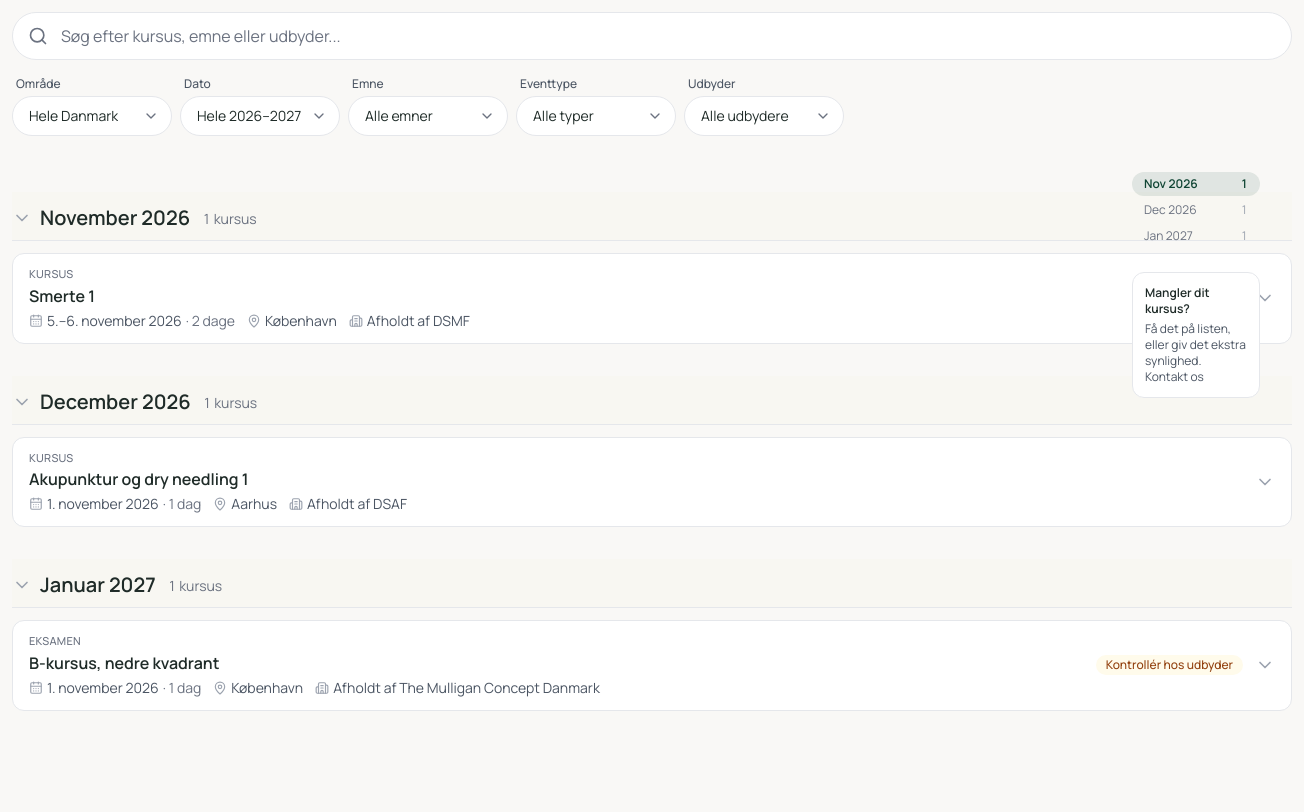
Test: CourseOverview › lists months with counts in the timeline and jumps to a collapsed month
This screenshot has width=1304, height=812.
Step 1. Click the button "Januar 2027" → {"x": 84, "y": 585}, box [12,571,156,599]
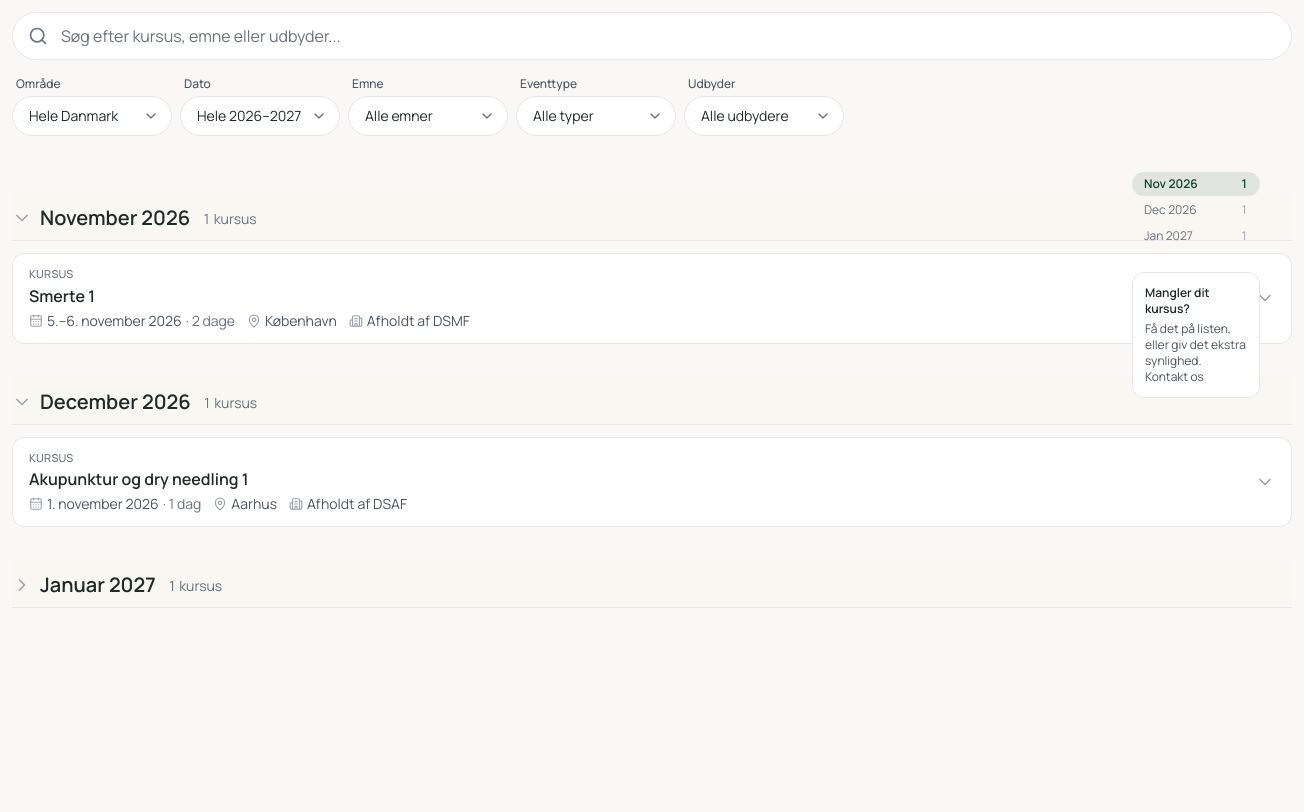
Step 2. Click the button with aria-label "Januar 2027, 1 kursus" → {"x": 1196, "y": 236}, box [1132,224,1260,248]
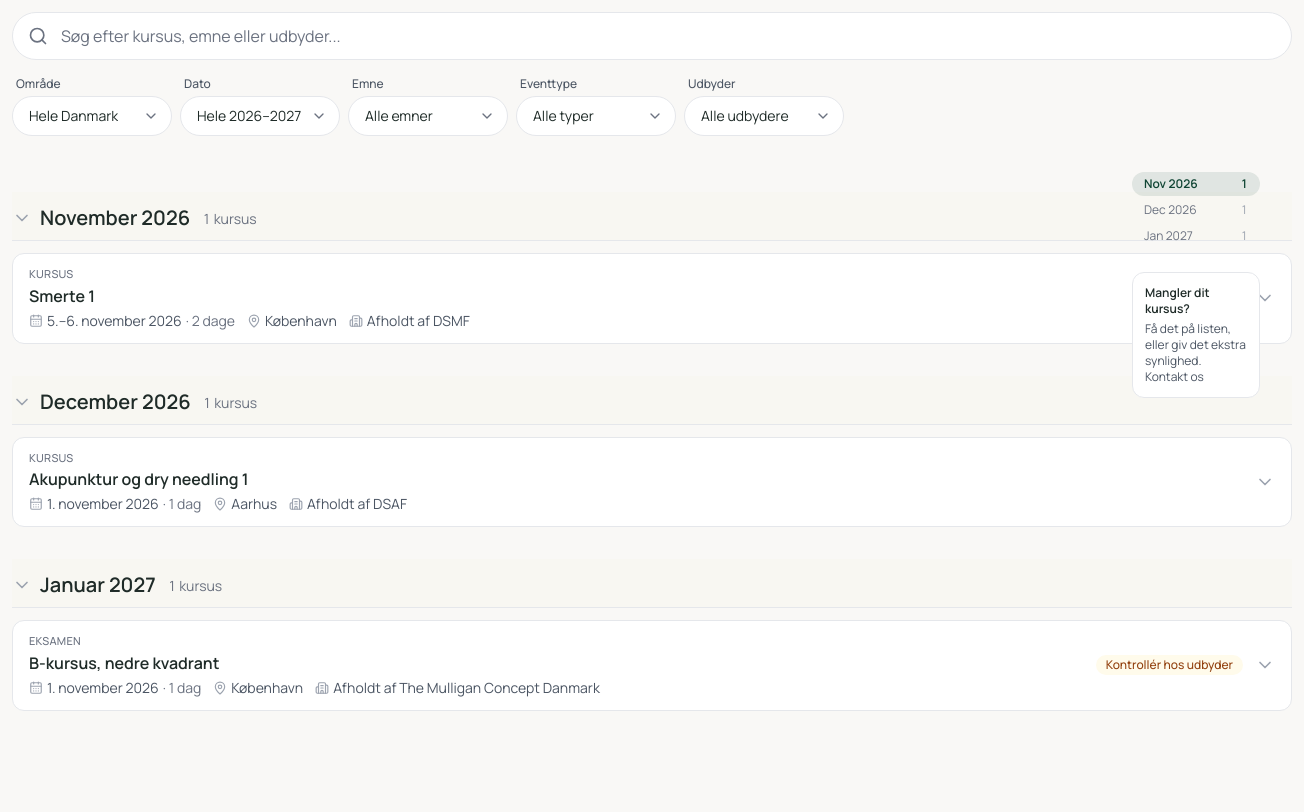
Check: the heading "B-kursus, nedre kvadrant" is shown, box [29,652,220,674]
